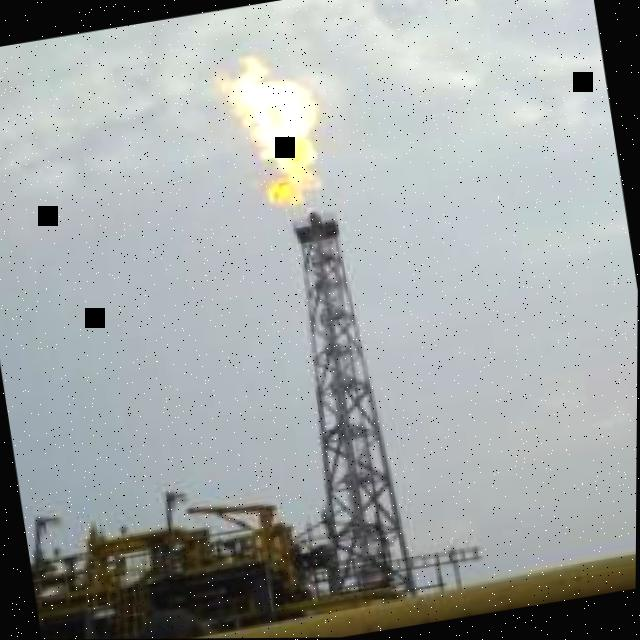fire: (216, 58, 323, 211)
